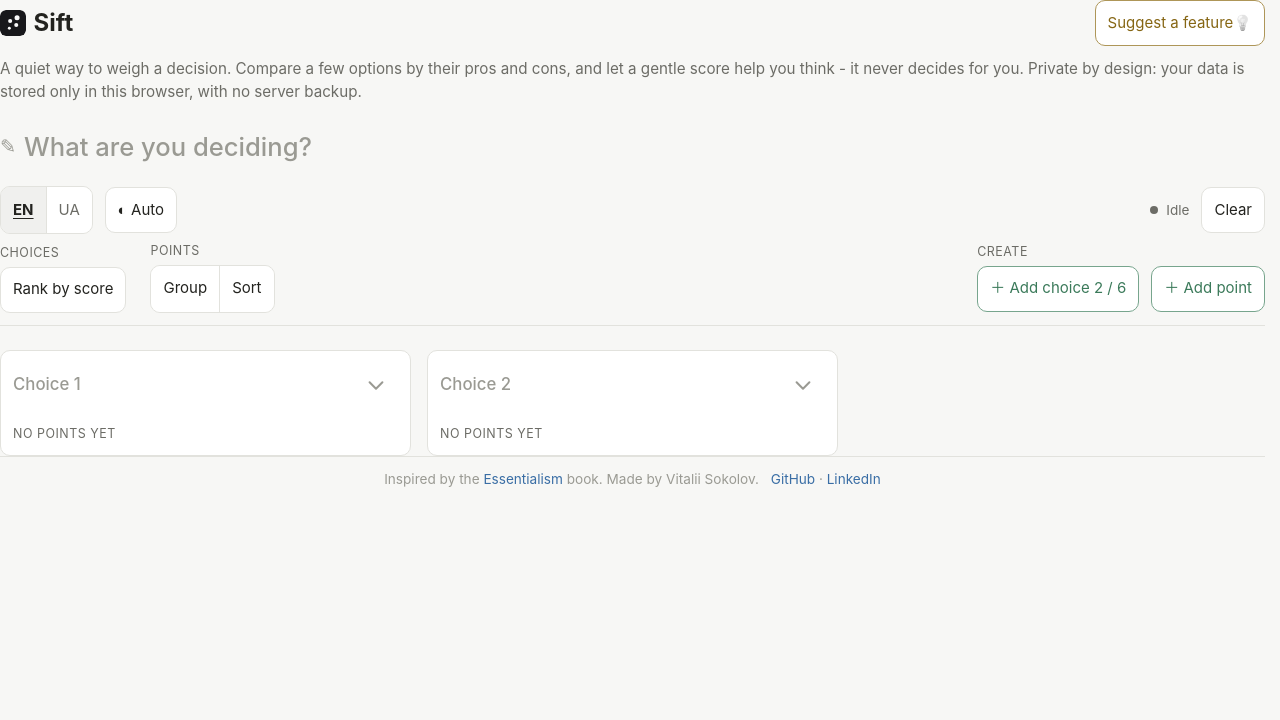
Scenario: US2 — suggest modal (wired interactions) › opens the modal and moves focus into it when the header link is clicked
Click the button "Suggest a feature 💡": point(1180, 23) [1095,0,1265,46]
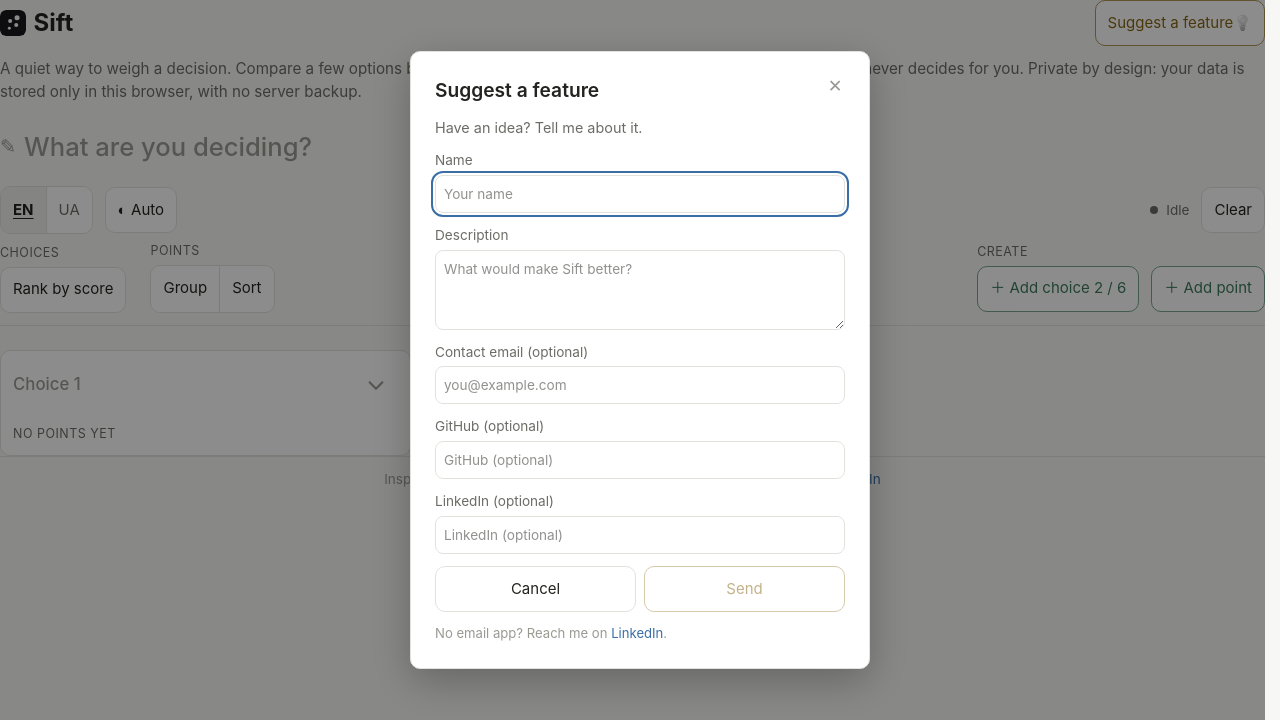
expect the dialog with class "modal" is shown: met, box [410,51,870,669]
